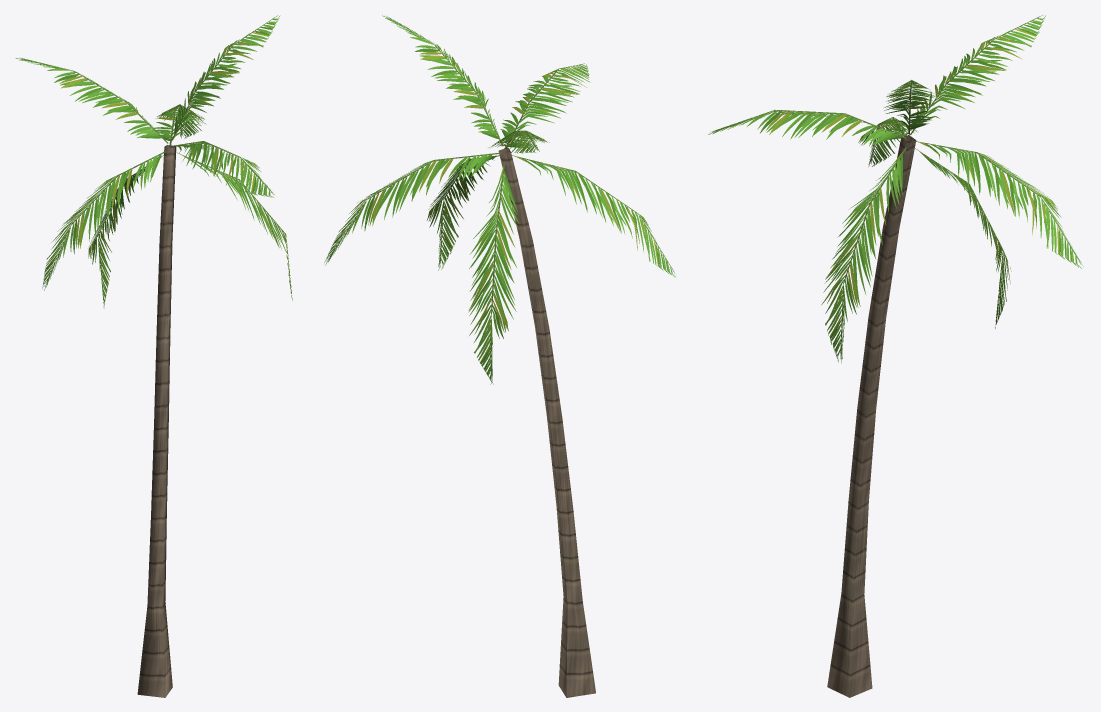
File: palma_bl_b_lo.glb
3 renders of one model, left to right at view 1: azimuth 30°, elevation 25°; view 2: azimuth 150°, elevation 25°; view 3: azimuth 270°, elevation 25°, orthographic. The views are drawn at different scales.
Parts seen in each view (by area): view 1: palma_bl_b_lo; view 2: palma_bl_b_lo; view 3: palma_bl_b_lo.
Boxes of the visible parts, left/top/right/bottom form: palma_bl_b_lo: left=15, top=15, right=292, bottom=697; palma_bl_b_lo: left=324, top=15, right=675, bottom=697; palma_bl_b_lo: left=708, top=15, right=1083, bottom=697.
Bounding box in the file's own units: 4.29 × 9.84 × 4.93.
2 materials, 2 textured.
